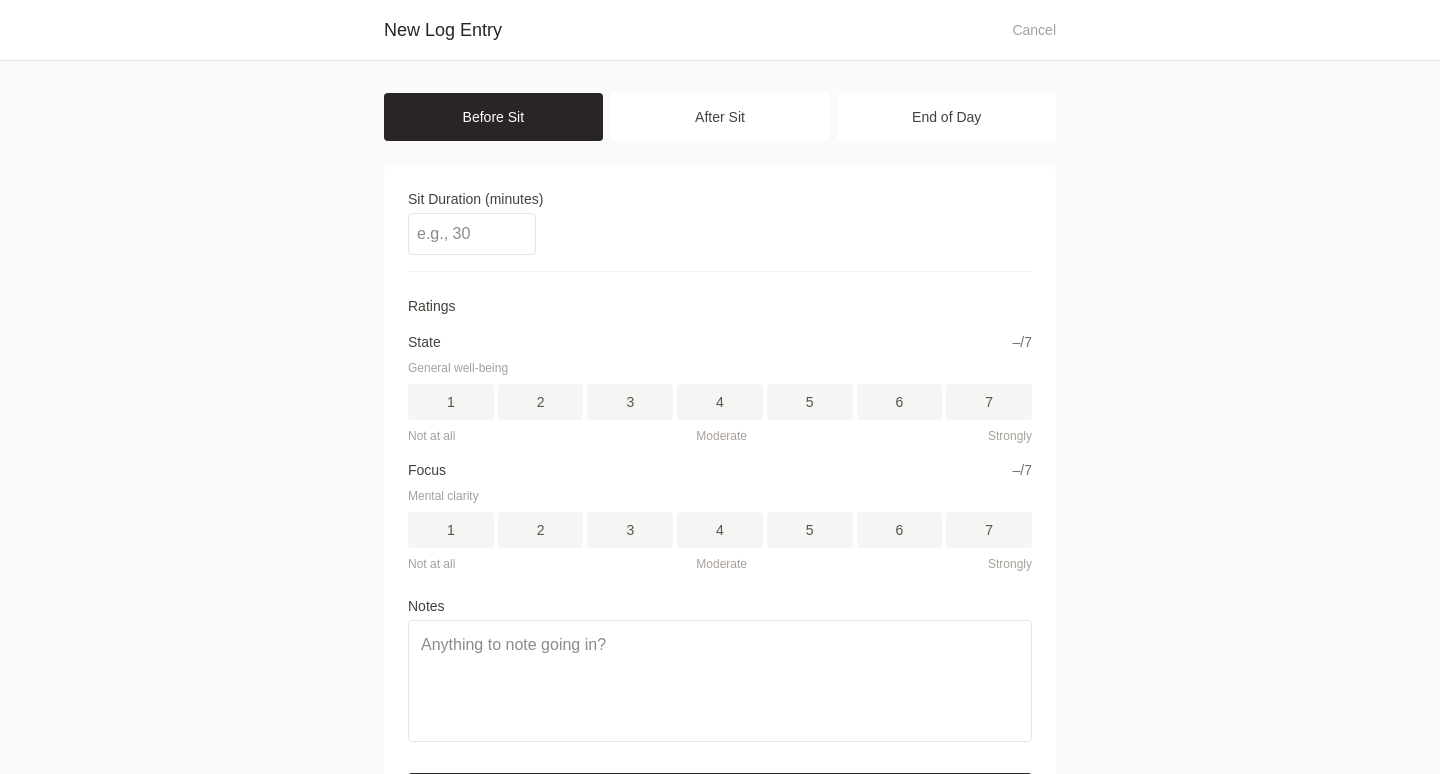
Test: LogForm › updates rating when button clicked
This screenshot has width=1440, height=774.
# Find the first "5" button (for State metric)
Click the button "5" below "General well-being": click(810, 402) top-left (767, 384), bottom-right (853, 420)
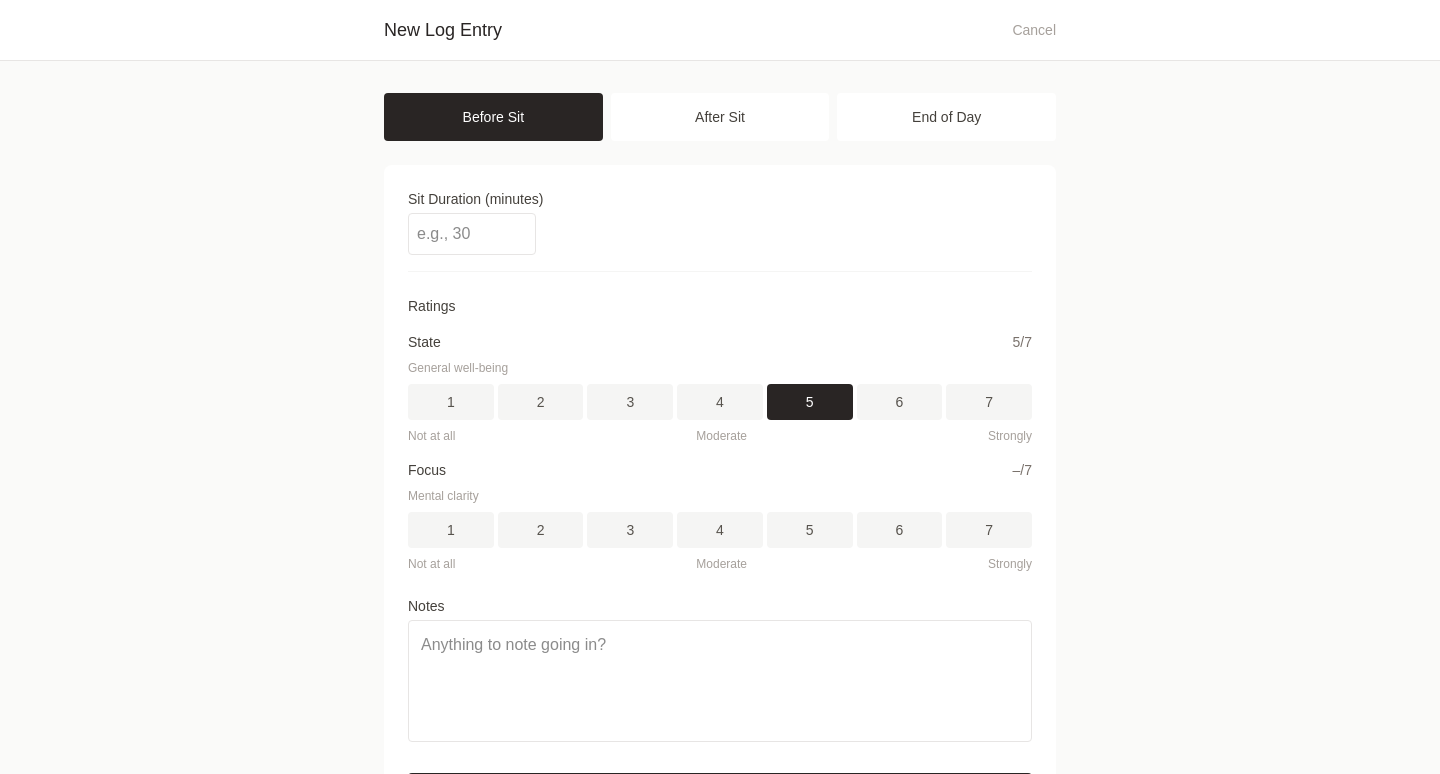
Now the text "5/7" is shown, box top-left (1012, 332), bottom-right (1032, 352)
